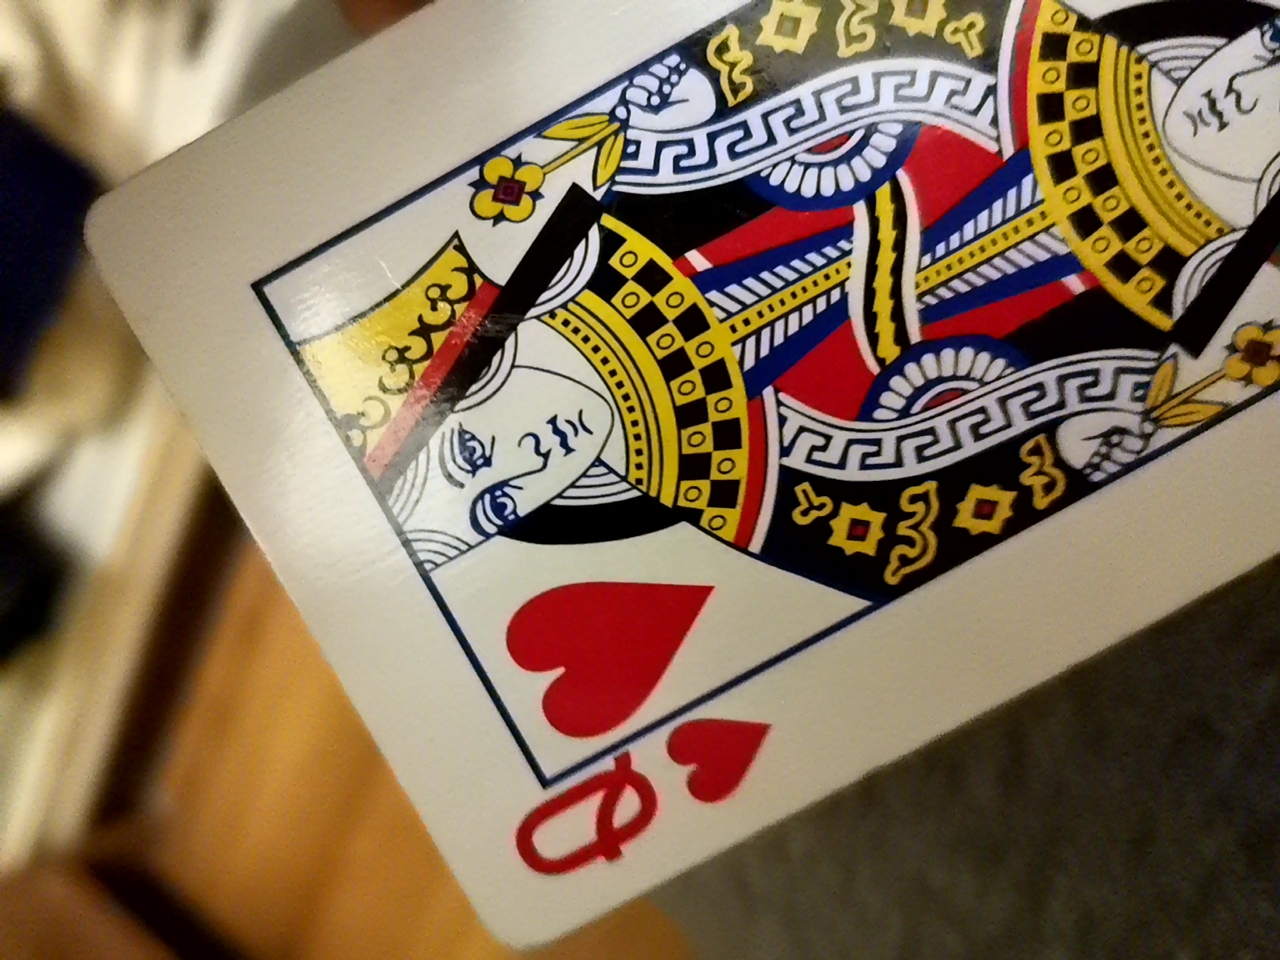hx q: (234, 12, 1268, 944)
